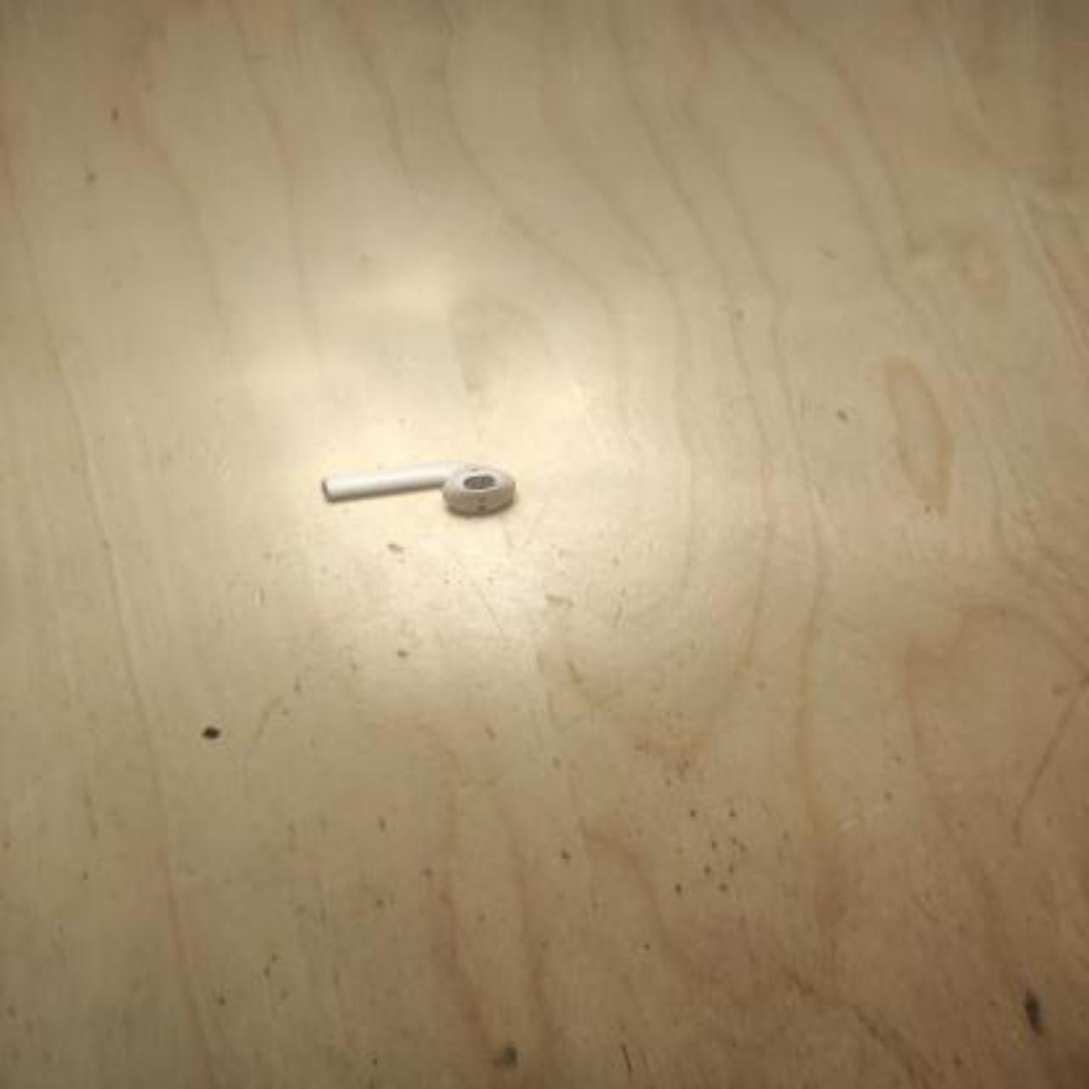Airpods_Units: (316, 457, 520, 519)
